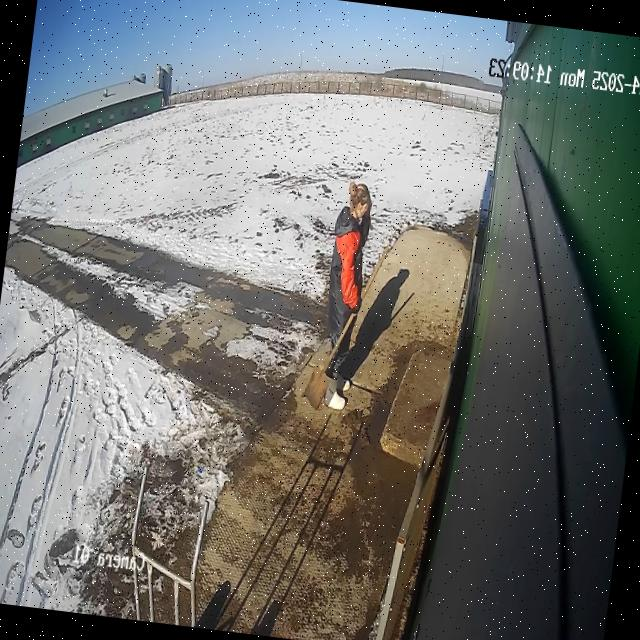Red uniform: (310, 177, 380, 413)
